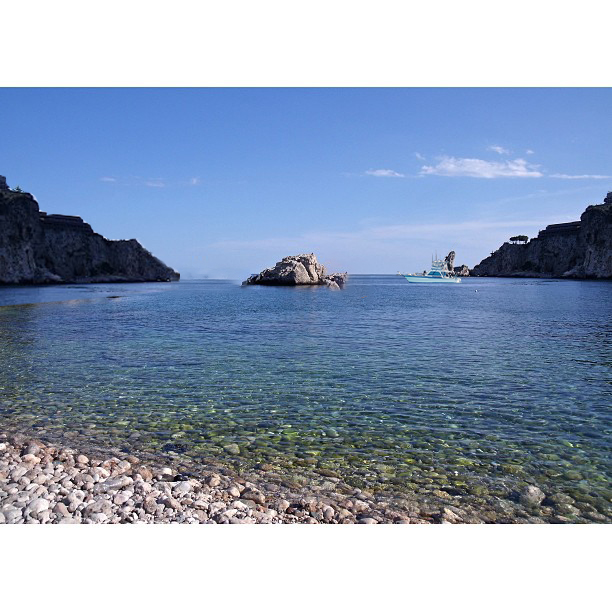copymove: (1, 176, 185, 287)
removal: (349, 266, 382, 288)
spliced: (402, 253, 464, 284)
